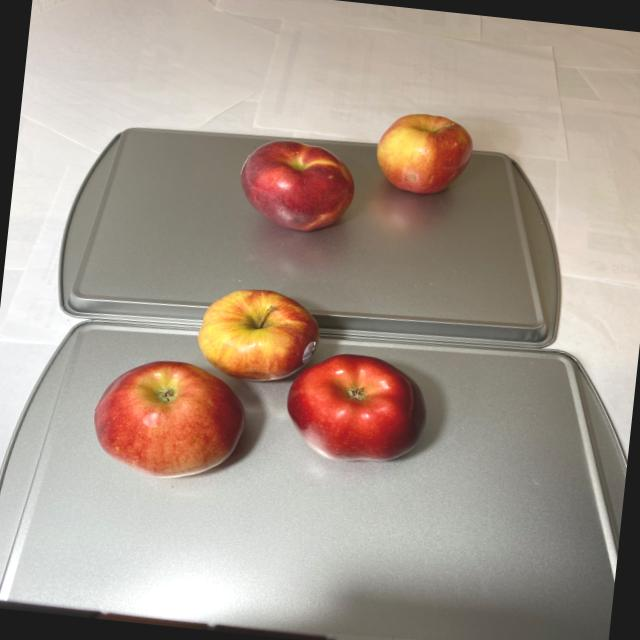apple: (83, 271, 440, 503), (230, 96, 483, 262)
